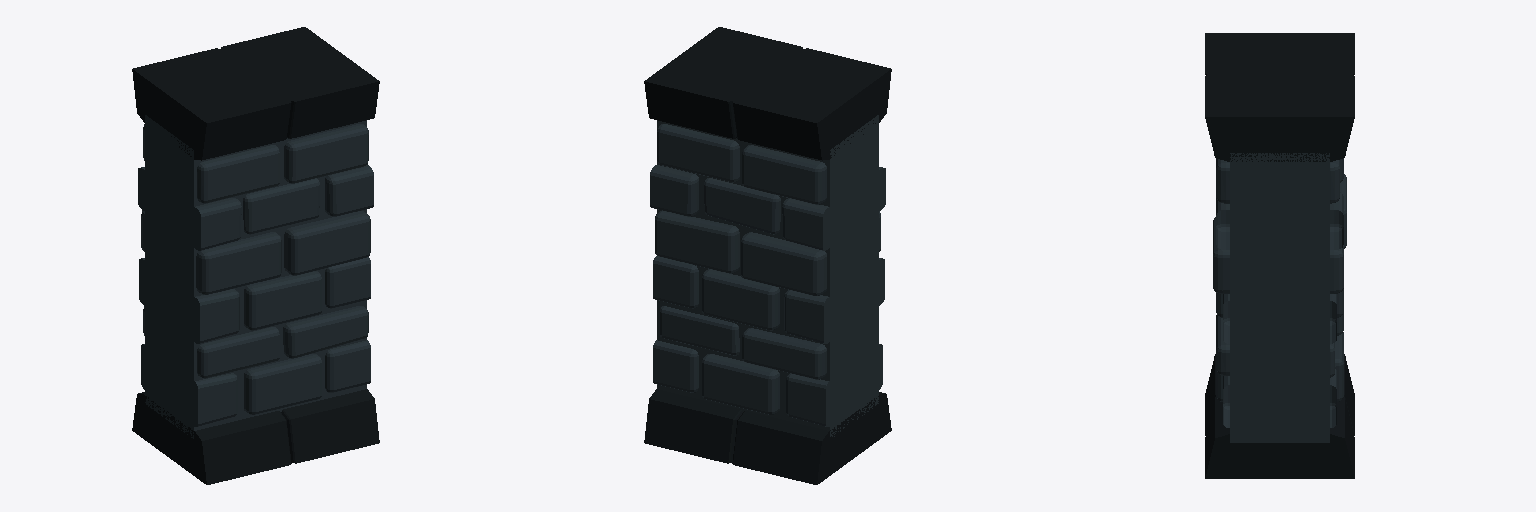
File: wall_half2.obj
3 views of the same model, side by side, from view 1: azimuth 30°, elevation 25°; view 2: azimuth 150°, elevation 25°; view 3: azimuth 270°, elevation 25° (orthographic).
Visible parts, largest first — view 1: wall1:Mesh; view 2: wall1:Mesh; view 3: wall1:Mesh.
Part boxes in pixels (x1,y1,x2,y2): wall1:Mesh: (132,27,379,484); wall1:Mesh: (644,27,891,484); wall1:Mesh: (1205,33,1354,478).
Size of the model in its own units: 2 by 4 by 1.5.